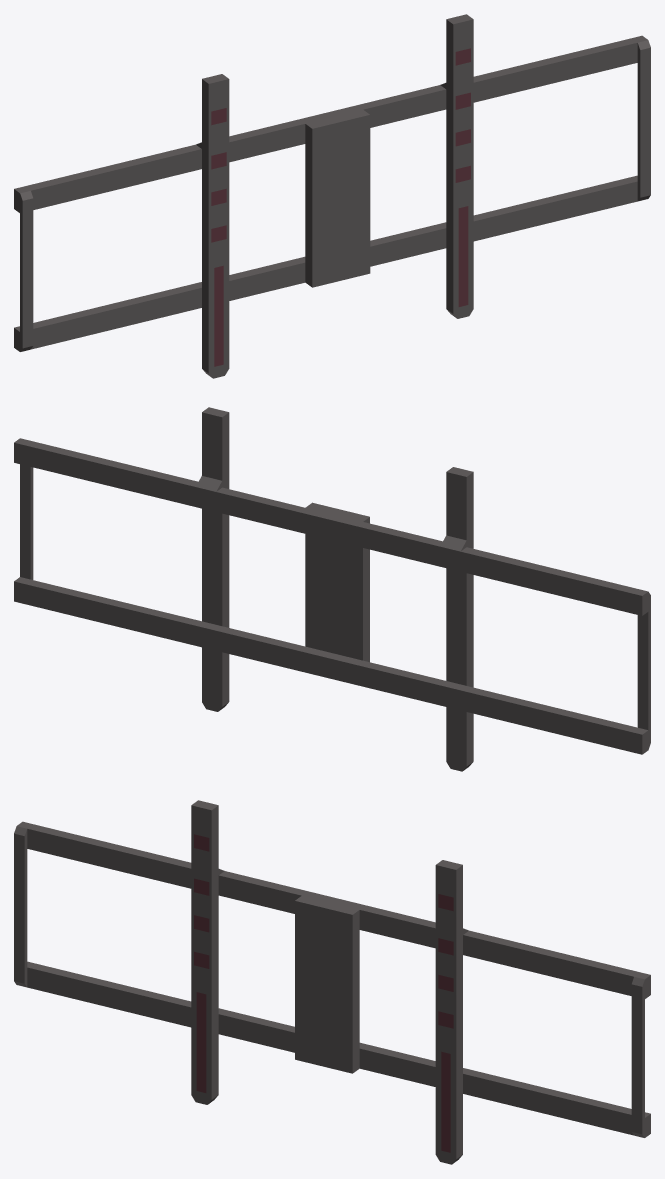
The model's file is television-mount.fbx.
The picture shows the model from 3 angles, top to bottom: view 1: azimuth 30°, elevation 25°; view 2: azimuth 150°, elevation 25°; view 3: azimuth 330°, elevation 25°; orthographic projection.
Parts seen in each view (by area): view 1: television-mount; view 2: television-mount; view 3: television-mount.
Boxes of the visible parts, x1=… form: television-mount: x1=14, y1=14, x2=650, y2=378; television-mount: x1=14, y1=407, x2=650, y2=771; television-mount: x1=14, y1=800, x2=650, y2=1164.
Bounding box in the file's own units: 0.89 × 0.4004 × 0.0321.
